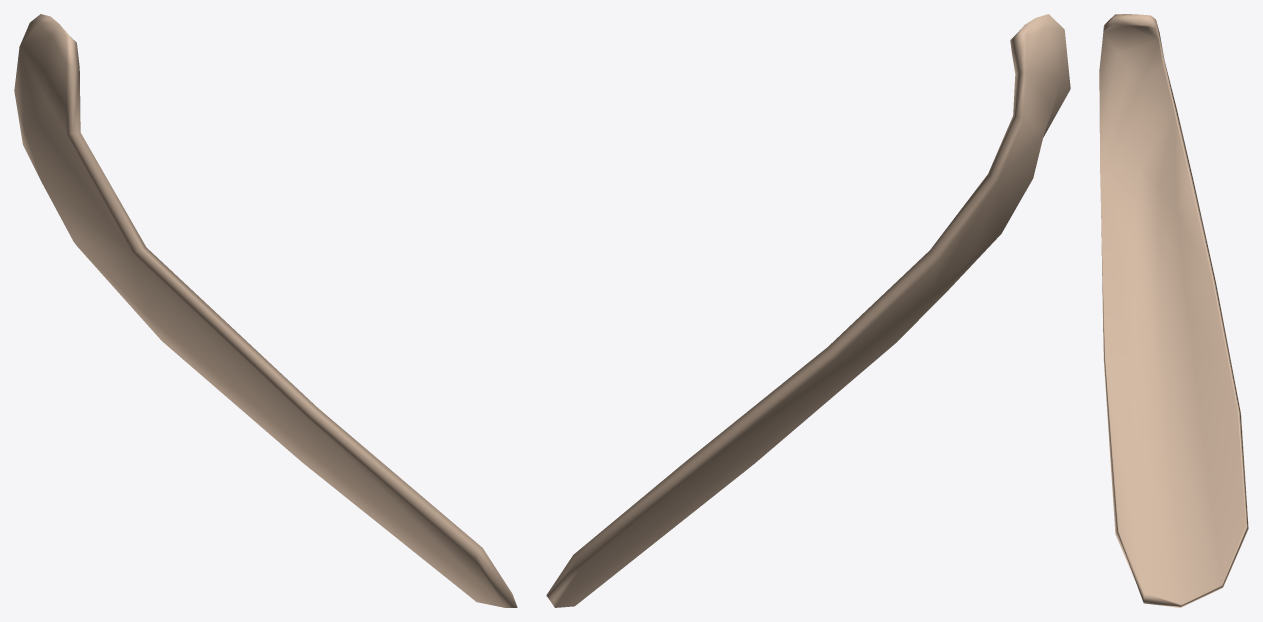
3 views of the same model, side by side, from view 1: azimuth 30°, elevation 25°; view 2: azimuth 150°, elevation 25°; view 3: azimuth 270°, elevation 25° (orthographic). The views are drawn at different scales.
Parts seen in each view (by area): view 1: 左侧髌内侧支持带; view 2: 左侧髌内侧支持带; view 3: 左侧髌内侧支持带.
Boxes of the visible parts, left/top/right/bottom form: 左侧髌内侧支持带: left=14, top=14, right=517, bottom=607; 左侧髌内侧支持带: left=546, top=14, right=1070, bottom=607; 左侧髌内侧支持带: left=1099, top=14, right=1248, bottom=607.
Size of the model in its own units: 0.0483 by 0.0675 by 0.0201.
